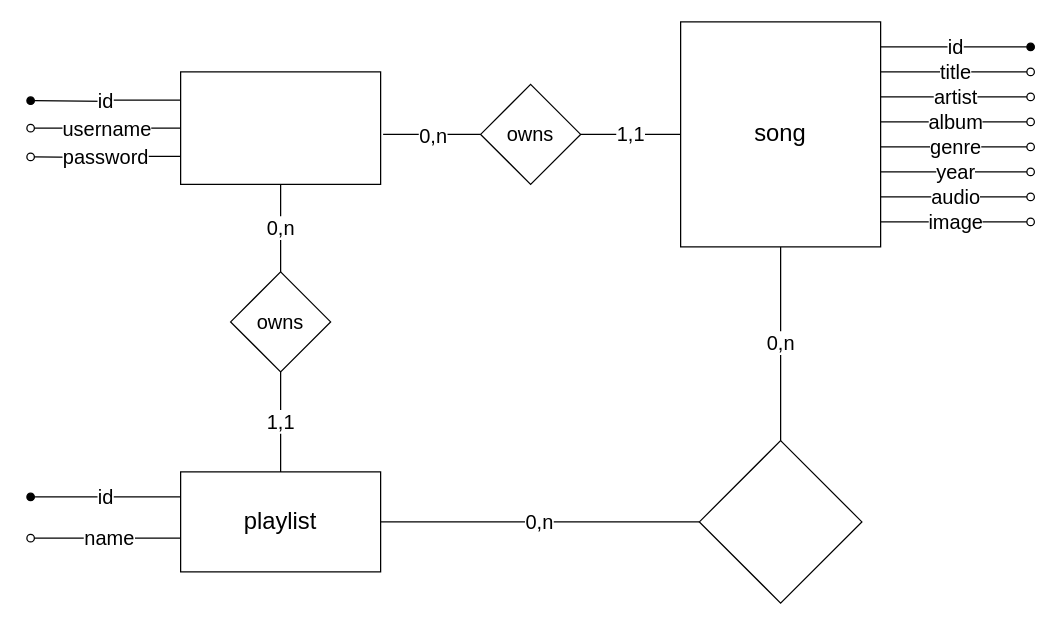
Image size: 1063x625. Some labels were removed from this diagram. Each missing label, with the box of its shape:
is contained: (698, 439, 862, 603)
user: (179, 71, 381, 184)
